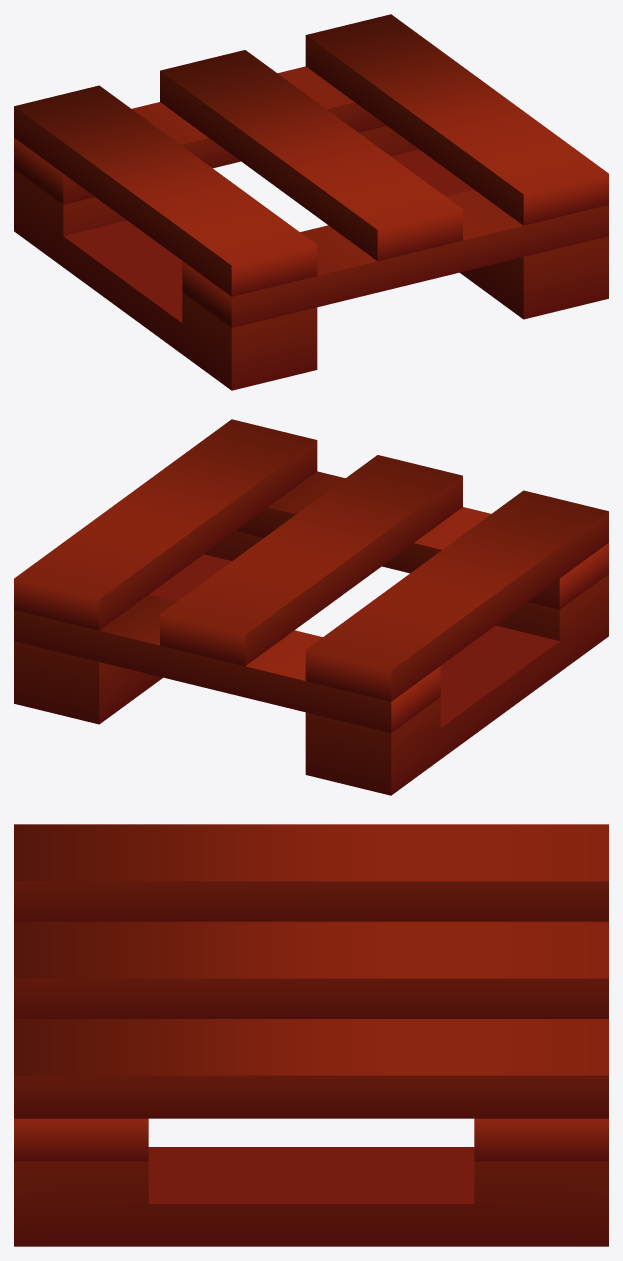
Rendered from pallet.fbx.
The picture shows the model from 3 angles, top to bottom: view 1: azimuth 30°, elevation 25°; view 2: azimuth 150°, elevation 25°; view 3: azimuth 270°, elevation 25°; orthographic projection. The views are drawn at different scales.
Parts seen in each view (by area): view 1: pallet; view 2: pallet; view 3: pallet.
Boxes of the visible parts, x1,y1,x2,y2 form: pallet: (14, 14, 608, 390); pallet: (14, 419, 608, 795); pallet: (14, 824, 608, 1246).
Size of the model in its own units: 4.23 by 1.34 by 4.23.
